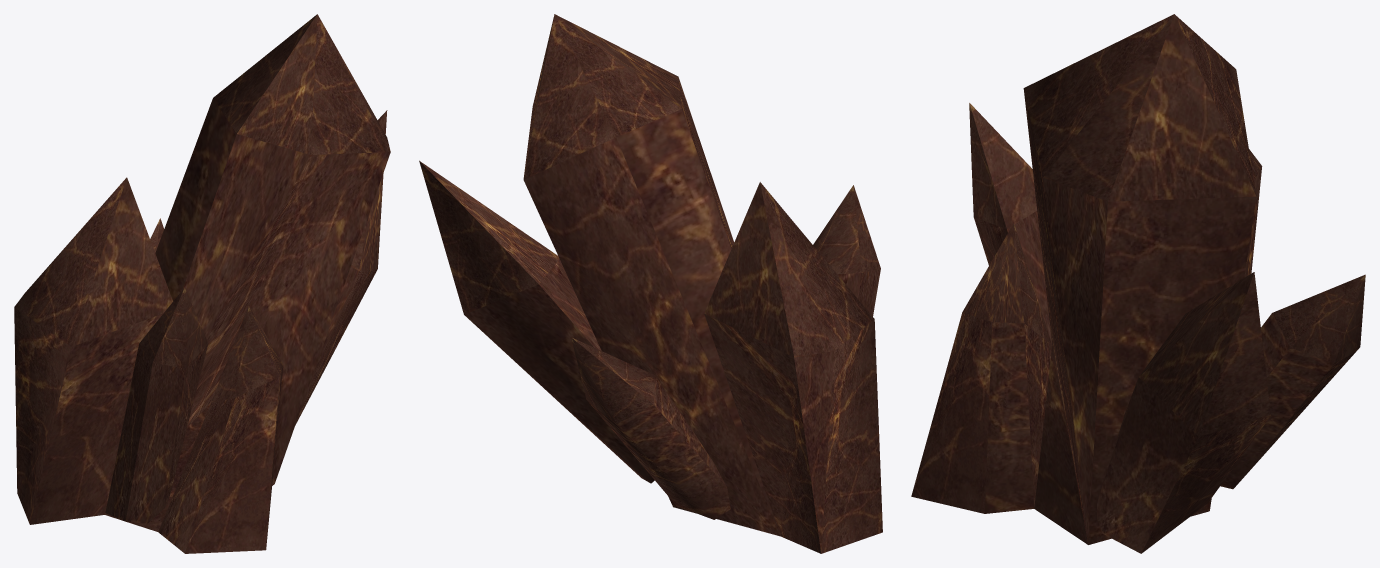
The model's file is crystalhugedeathfire_00.fbx.
3 views of the same model, side by side, from view 1: azimuth 30°, elevation 25°; view 2: azimuth 150°, elevation 25°; view 3: azimuth 270°, elevation 25° (orthographic). The views are drawn at different scales.
Parts seen in each view (by area): view 1: Geoset_0; view 2: Geoset_0; view 3: Geoset_0.
Part boxes in pixels (x1,y1,x2,y2): Geoset_0: (14, 14, 390, 553); Geoset_0: (419, 14, 882, 553); Geoset_0: (911, 14, 1365, 553).
Size of the model in its own units: 3.81 by 3.95 by 2.78.
Materials: 1 (1 with a texture image).
